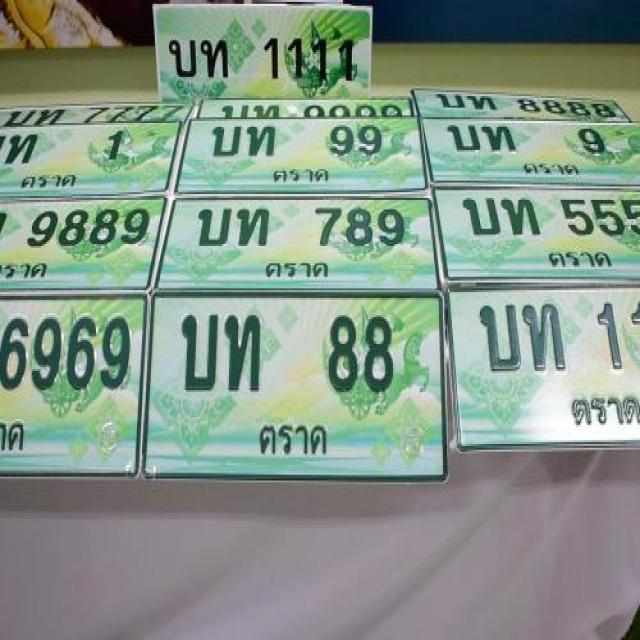TRT: (257, 418, 332, 462), (572, 389, 640, 431), (264, 255, 330, 284), (547, 244, 614, 270), (22, 167, 82, 190), (272, 163, 326, 186), (526, 160, 581, 178)
